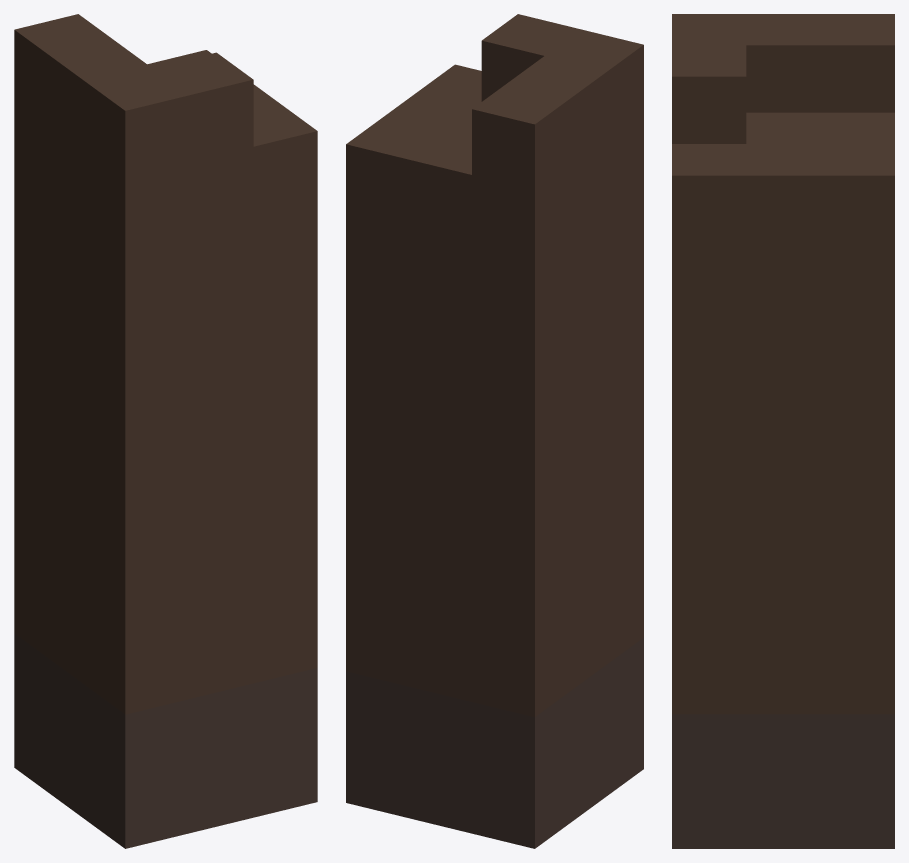
Rendered from goat__leg_fr.glb.
3 renders of one model, left to right at view 1: azimuth 30°, elevation 25°; view 2: azimuth 150°, elevation 25°; view 3: azimuth 270°, elevation 25°, orthographic. The views are drawn at different scales.
Visible parts, largest first — view 1: goat__leg_fr; view 2: goat__leg_fr; view 3: goat__leg_fr.
Boxes of the visible parts, bbox=[...] form: goat__leg_fr: bbox=[14, 14, 317, 848]; goat__leg_fr: bbox=[346, 14, 643, 848]; goat__leg_fr: bbox=[672, 14, 894, 848].
Bounding box in the file's own units: 0.3 × 1.1 × 0.3.
1 material, 1 textured.
